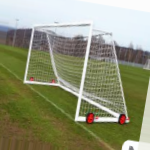goals: (22, 22, 130, 129)
